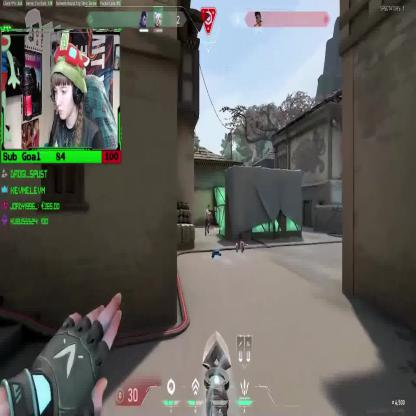enemy: (204, 201, 218, 234)
enemy_head: (207, 204, 210, 210)
